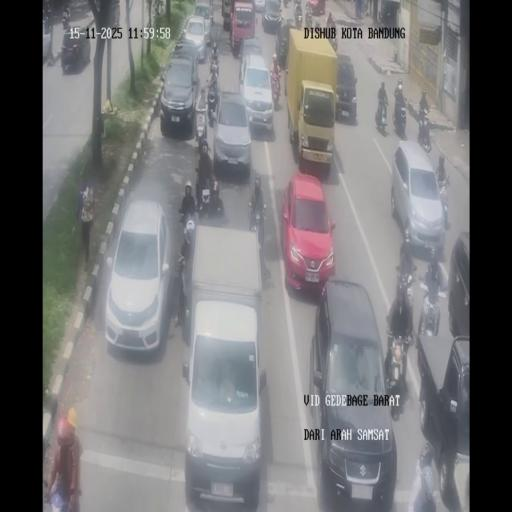3: (285, 28, 338, 170), (229, 0, 255, 55), (221, 0, 233, 30)
car: (310, 282, 396, 508), (183, 304, 264, 507), (104, 199, 172, 355), (418, 334, 469, 504), (281, 172, 335, 295), (392, 142, 446, 252), (212, 90, 252, 174), (158, 55, 198, 134), (240, 52, 275, 135), (448, 234, 470, 339), (335, 54, 358, 122), (60, 25, 91, 74), (183, 14, 210, 61), (274, 17, 294, 65), (263, 0, 282, 33), (254, 0, 266, 12)
truck: (384, 332, 412, 418), (43, 466, 79, 512), (416, 281, 442, 339), (177, 210, 197, 263), (173, 258, 188, 327), (248, 196, 266, 252), (396, 262, 416, 312), (194, 90, 208, 148), (436, 175, 451, 229), (393, 94, 407, 136), (418, 109, 432, 150), (375, 93, 389, 130), (197, 184, 212, 217), (207, 77, 219, 118), (270, 64, 281, 106), (209, 44, 219, 75), (293, 0, 303, 28), (328, 30, 338, 52), (42, 12, 52, 34), (176, 26, 188, 44), (305, 4, 313, 28), (153, 0, 164, 16), (62, 9, 70, 30), (314, 16, 321, 35), (326, 13, 334, 27), (362, 0, 368, 16), (378, 8, 383, 23), (282, 0, 290, 9)
